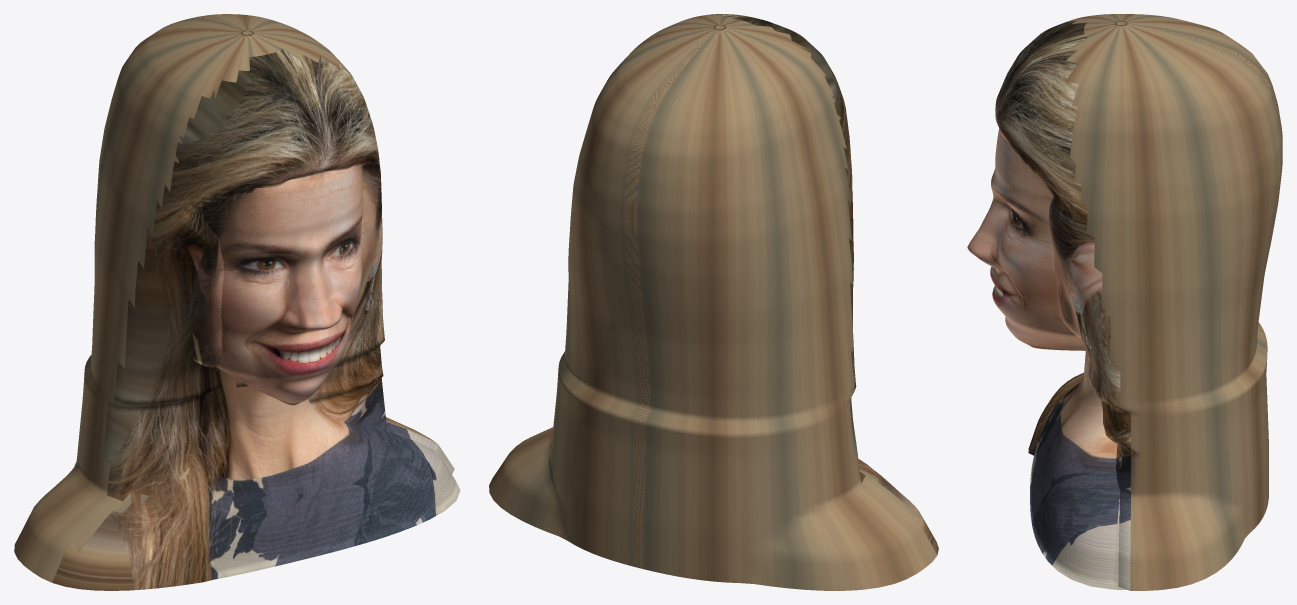
Rendered from maxima.glb.
The picture shows the model from 3 angles, left to right: view 1: azimuth 30°, elevation 25°; view 2: azimuth 150°, elevation 25°; view 3: azimuth 270°, elevation 25°; orthographic projection. The views are drawn at different scales.
Parts seen in each view (by area): view 1: Queen_Maxima_head; view 2: Queen_Maxima_head; view 3: Queen_Maxima_head.
Part boxes in pixels (bbox=[...]): Queen_Maxima_head: bbox=[14, 14, 460, 590]; Queen_Maxima_head: bbox=[489, 14, 938, 590]; Queen_Maxima_head: bbox=[967, 14, 1282, 590].
Size of the model in its own units: 0.3414 by 0.381 by 0.231.
4 materials, 3 textured.
